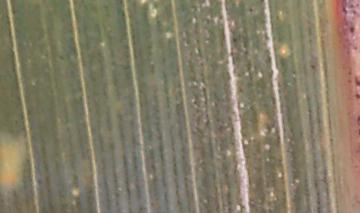tarspot: (232, 36, 238, 43), (310, 63, 316, 70), (249, 8, 254, 13)
